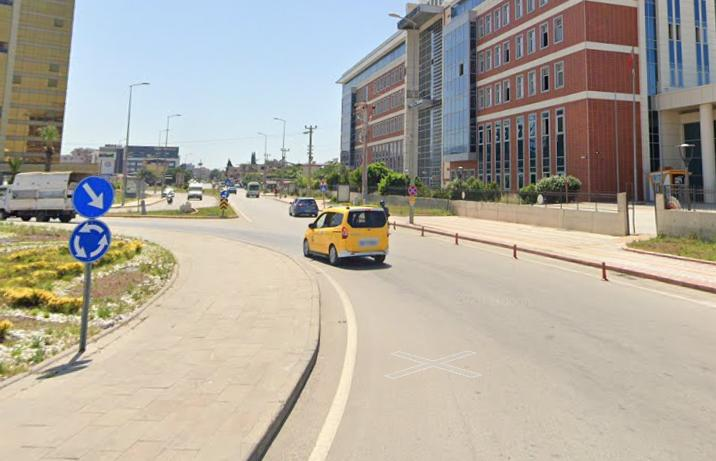crossroads: (71, 221, 109, 260)
